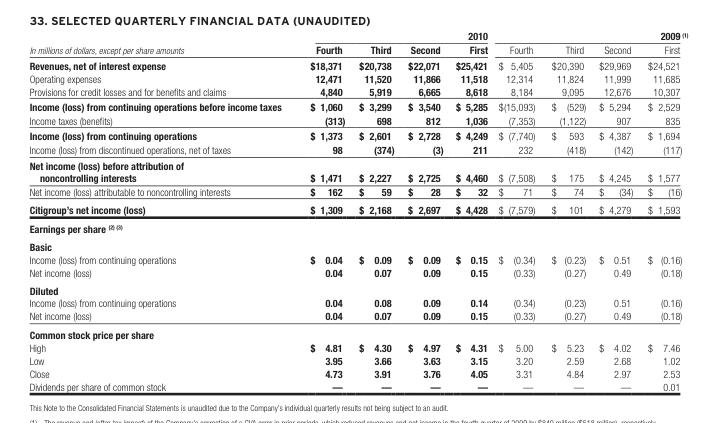table: (28, 29, 687, 391)
table column: (28, 29, 295, 391), (295, 29, 351, 391), (492, 29, 542, 391), (351, 29, 400, 391), (542, 29, 591, 391), (400, 29, 448, 391), (591, 29, 639, 391), (639, 29, 687, 391), (448, 29, 492, 391)
table column header: (28, 29, 687, 57)
table projected row header: (28, 218, 687, 237), (28, 280, 687, 296), (28, 324, 687, 340), (28, 237, 687, 252)
table row: (28, 157, 687, 184), (28, 218, 687, 237), (28, 200, 687, 218), (28, 184, 687, 200), (28, 280, 687, 296), (28, 324, 687, 340), (28, 42, 687, 57), (28, 98, 687, 113), (28, 127, 687, 142), (28, 142, 687, 157), (28, 237, 687, 252), (28, 265, 687, 280), (28, 309, 687, 324), (28, 57, 687, 71), (28, 84, 687, 98), (28, 113, 687, 127), (28, 29, 687, 42), (28, 71, 687, 84), (28, 252, 687, 265), (28, 296, 687, 309), (28, 340, 687, 353), (28, 353, 687, 366), (28, 366, 687, 379), (28, 379, 687, 391)
table spanning cell: (28, 29, 295, 57), (295, 29, 492, 42), (492, 29, 687, 42)
